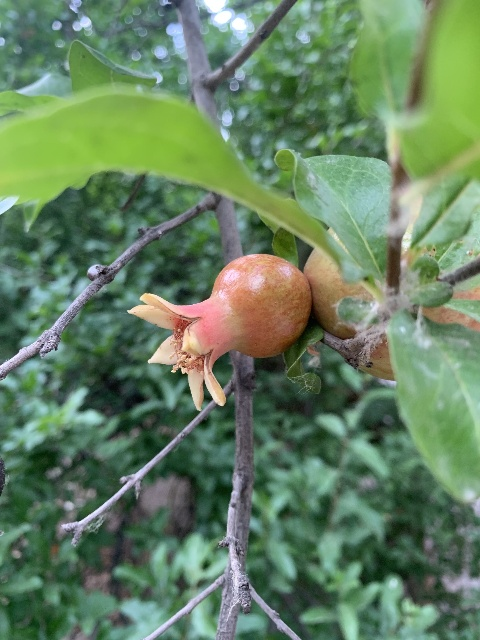early-fruit: (128, 253, 311, 409)
